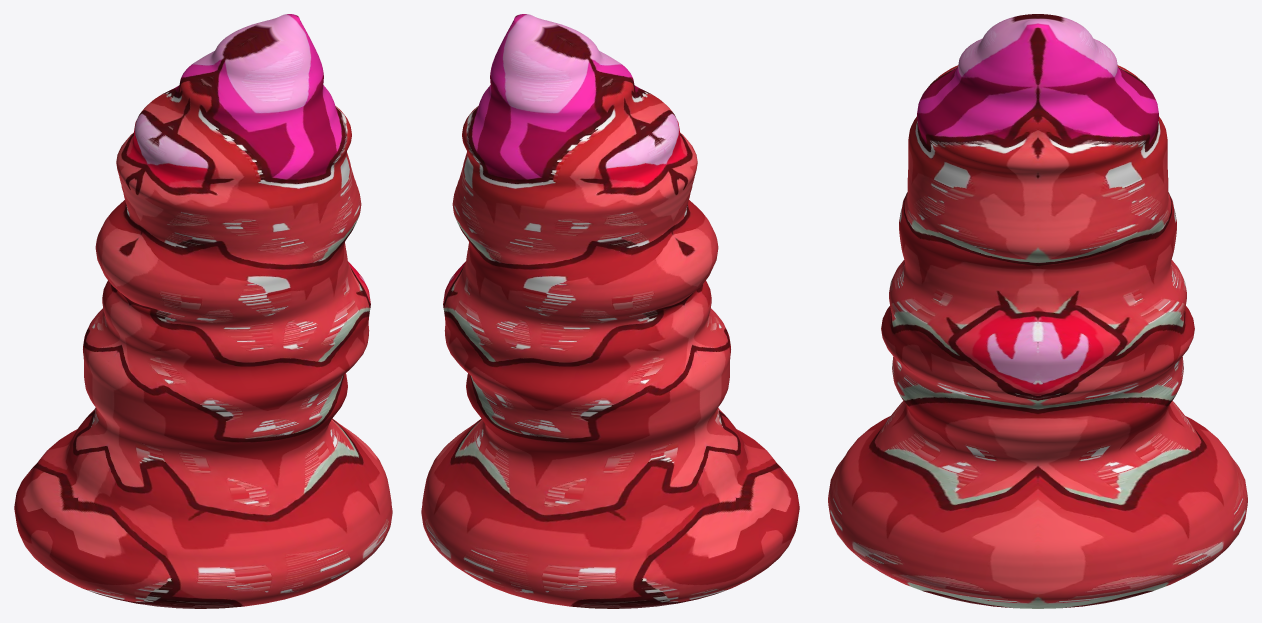
The model's file is ruby_cairn.glb.
3 renders of one model, left to right at view 1: azimuth 30°, elevation 25°; view 2: azimuth 150°, elevation 25°; view 3: azimuth 270°, elevation 25°, orthographic. The views are drawn at different scales.
Visible parts, largest first — view 1: ruby_cairn; view 2: ruby_cairn; view 3: ruby_cairn.
Boxes of the visible parts, <box> form: ruby_cairn: <box>14,14,392,608</box>; ruby_cairn: <box>421,14,799,608</box>; ruby_cairn: <box>828,14,1247,608</box>.
Bounding box in the file's own units: 0.9932 × 1.49 × 0.9922.
Materials: 1 (1 with a texture image).
